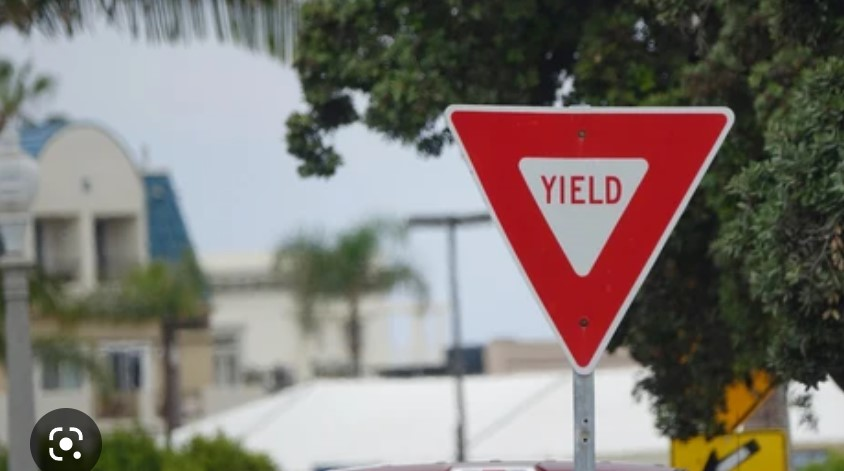Yeild: (441, 97, 738, 378)
